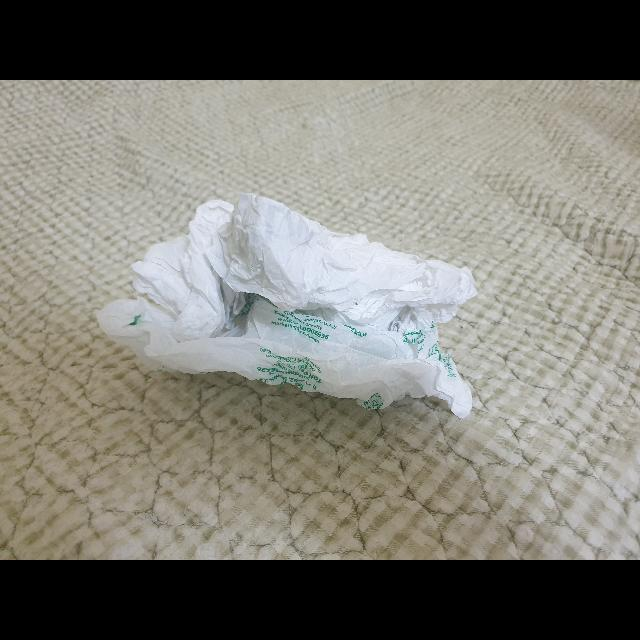plastic_bag: (89, 186, 492, 442)
